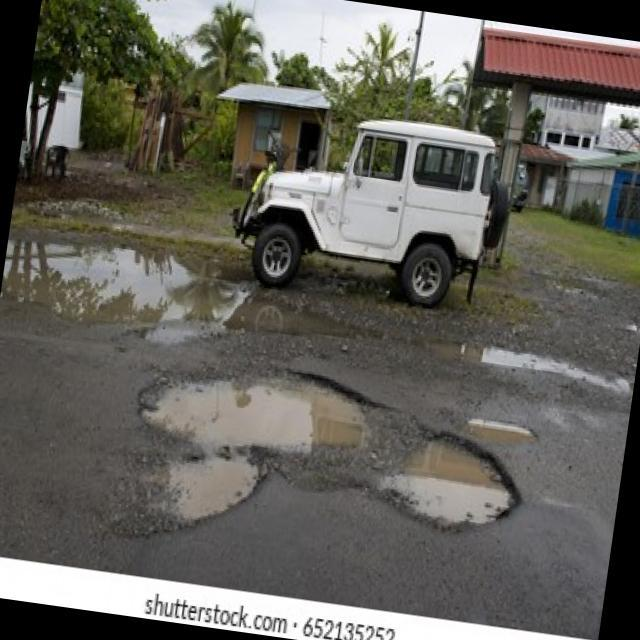Pothole: (130, 344, 381, 476), (370, 414, 530, 540), (108, 434, 266, 556), (464, 416, 544, 454)
